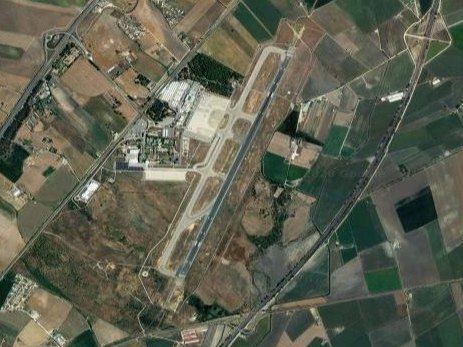airport: (114, 44, 299, 281)
motorway: (348, 146, 384, 201), (30, 37, 64, 89), (58, 1, 103, 37), (379, 98, 410, 148), (400, 50, 431, 100), (1, 85, 29, 137), (417, 1, 446, 50), (220, 310, 258, 347), (257, 272, 295, 309), (290, 236, 328, 273), (319, 200, 357, 237), (71, 40, 106, 73), (101, 73, 136, 106), (1, 241, 25, 279), (25, 210, 50, 245), (49, 181, 74, 216)
